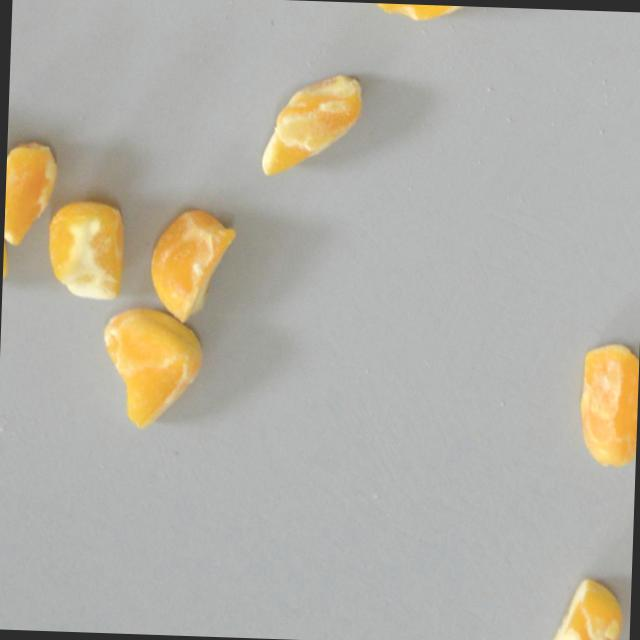dañado: (95, 306, 208, 434), (254, 67, 367, 183), (147, 200, 240, 327), (574, 334, 640, 476), (43, 195, 129, 303), (2, 133, 60, 250), (545, 574, 626, 640), (366, 1, 484, 28)
pelicula: (1, 177, 15, 299)
